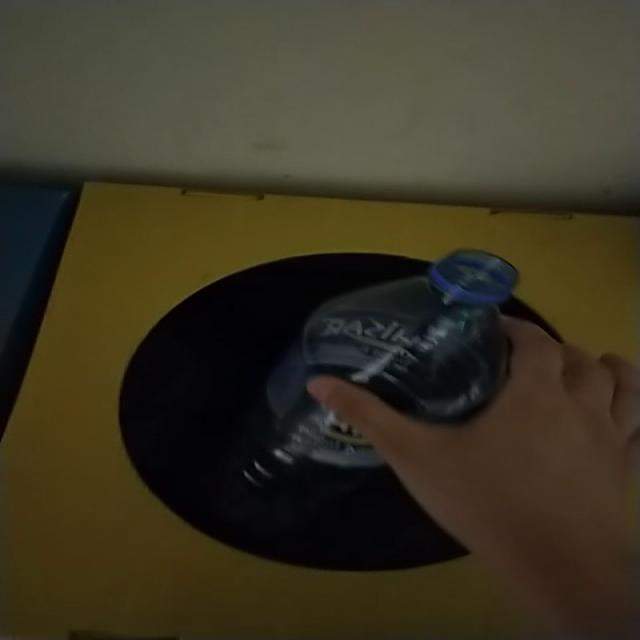Plastic: (269, 251, 519, 468)
